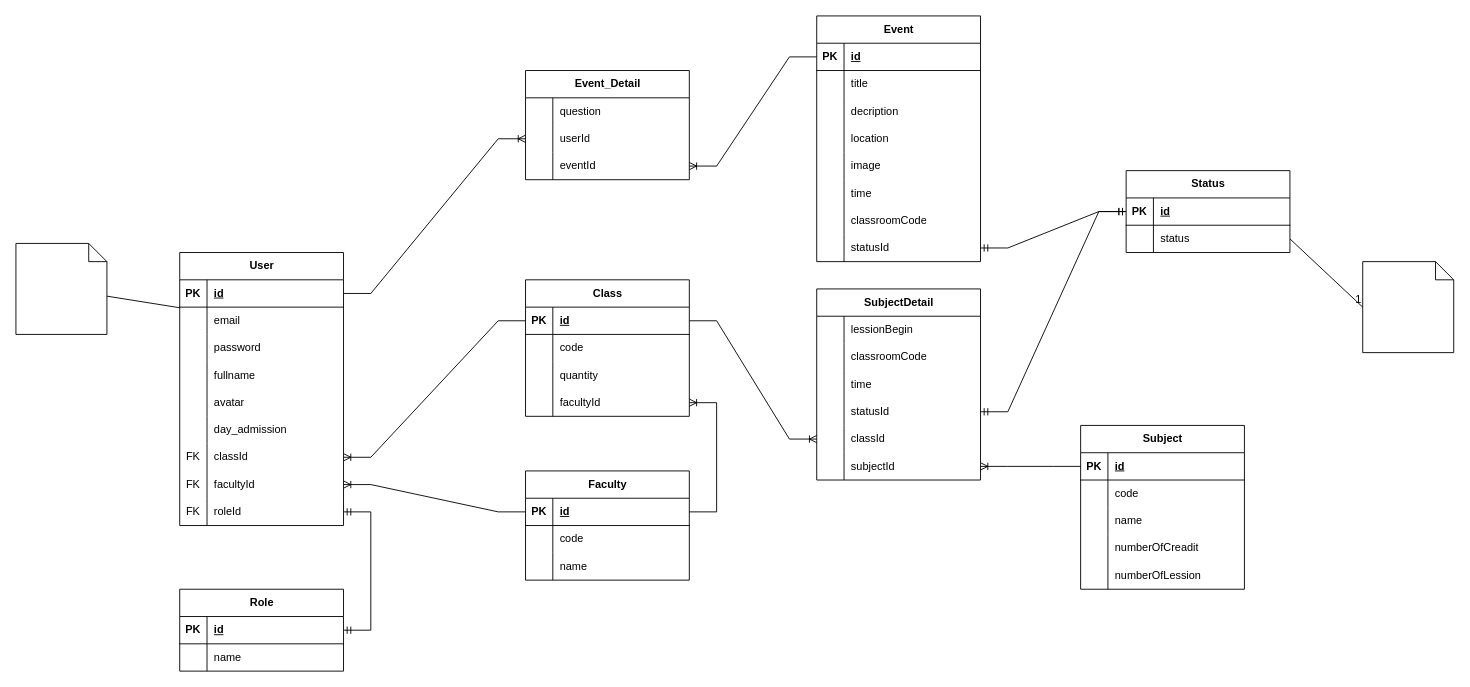
The diagram is 1470 pixels wide and 687 high, and some of its shapes have lost their labels. Here are the shapes that lost their labels. From the top down, the centre of each, then its label:
[61,288]: username is student_code / teacher_code / admin_code password is hash (SHA-256)
[1408,307]: status is "chưa thực hiện, đang thực hiện, đã hoàn thành"
